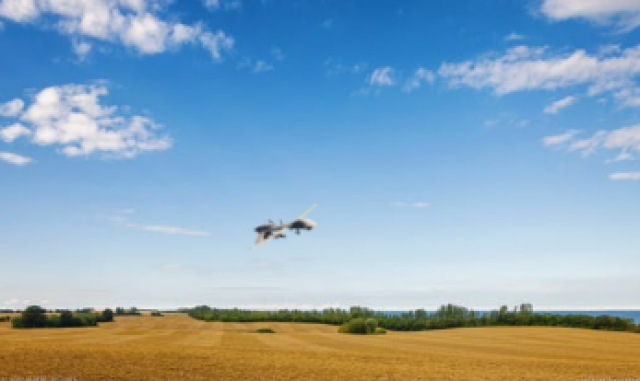military drone: (248, 202, 318, 249)
